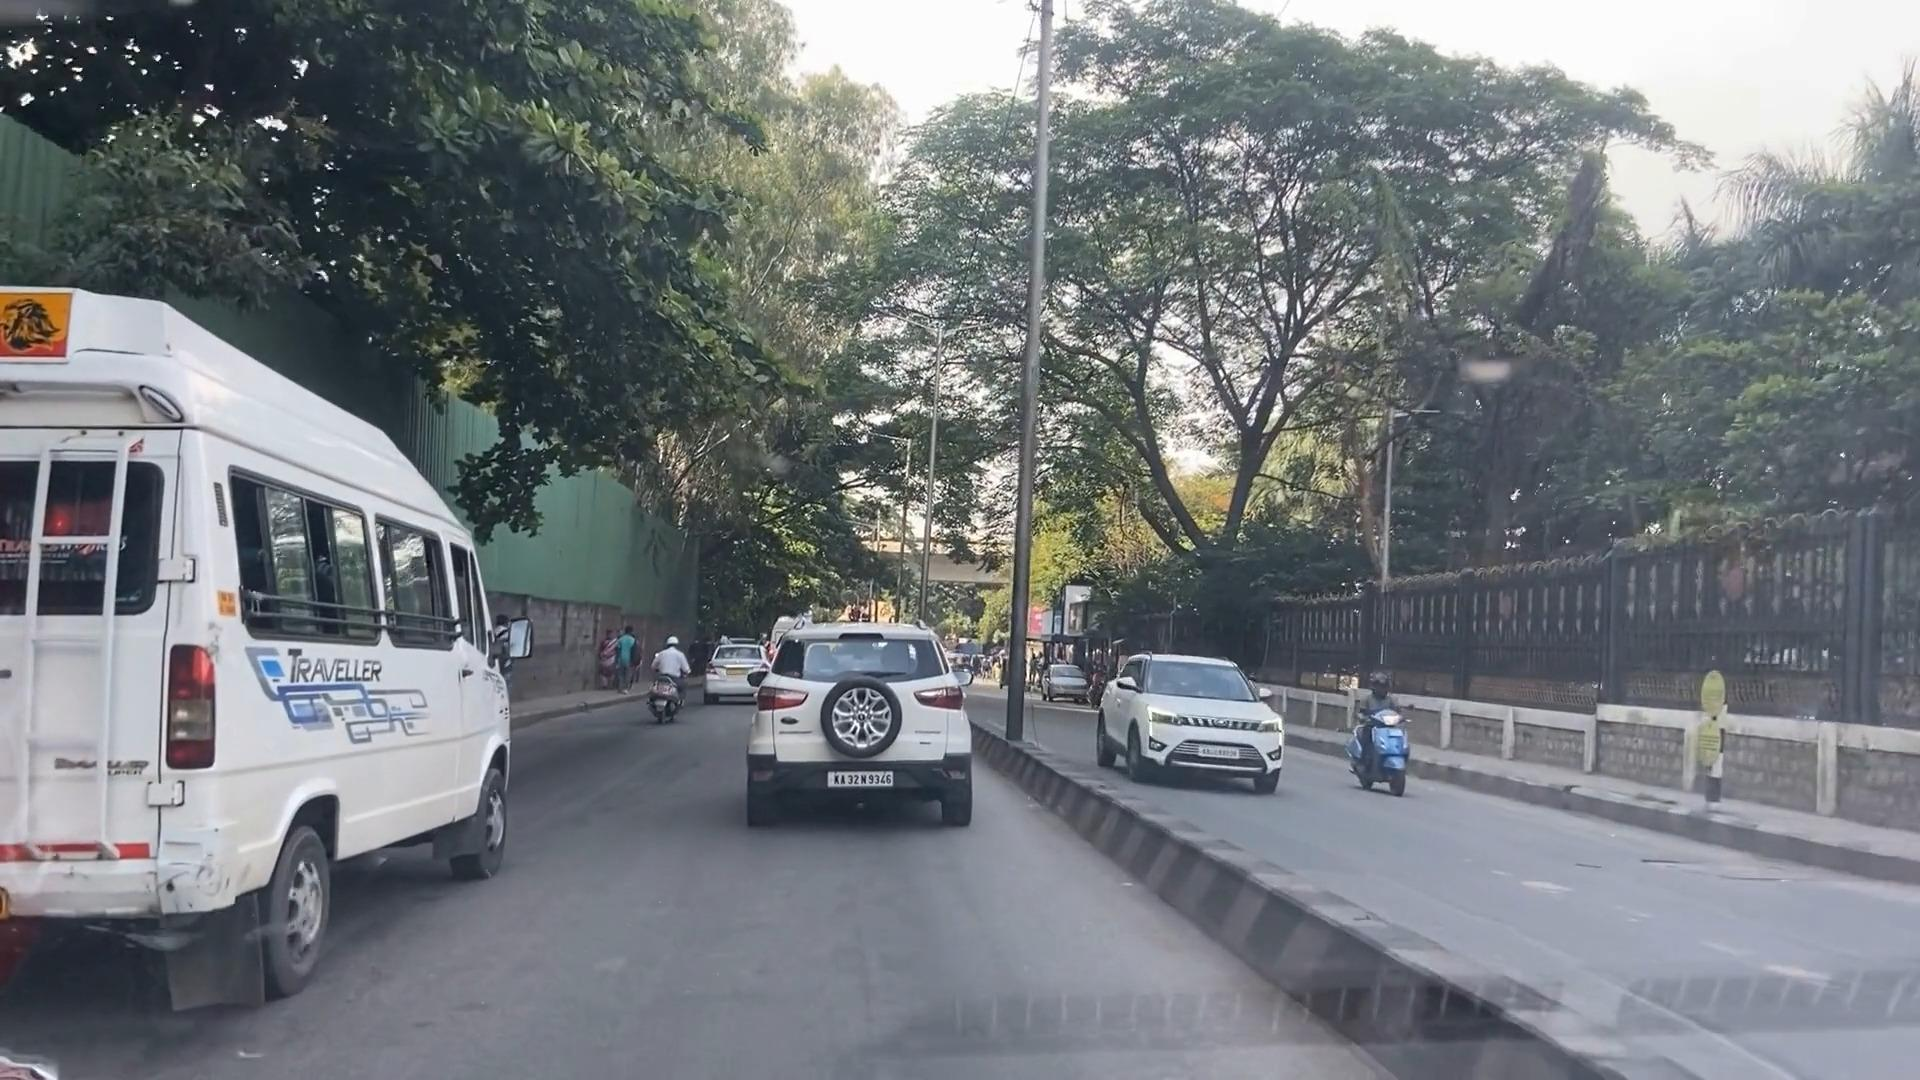HMV: (0, 270, 513, 980)
LMV: (756, 600, 977, 848)
